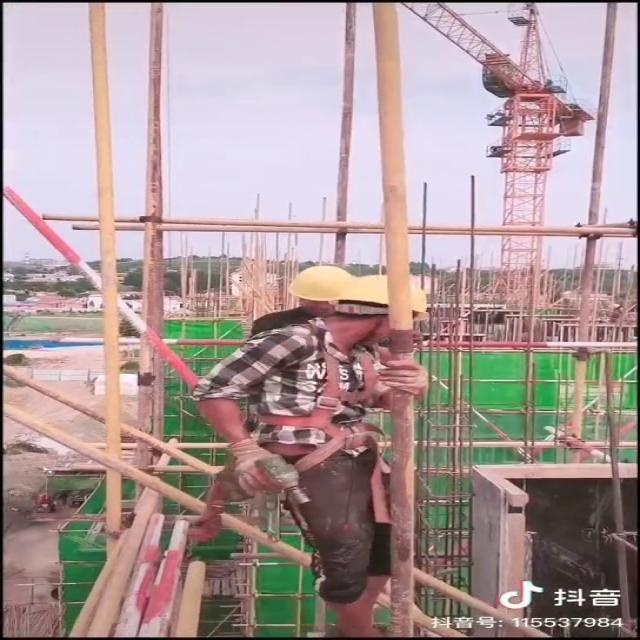Arnes_seguridad: (249, 327, 397, 476)
